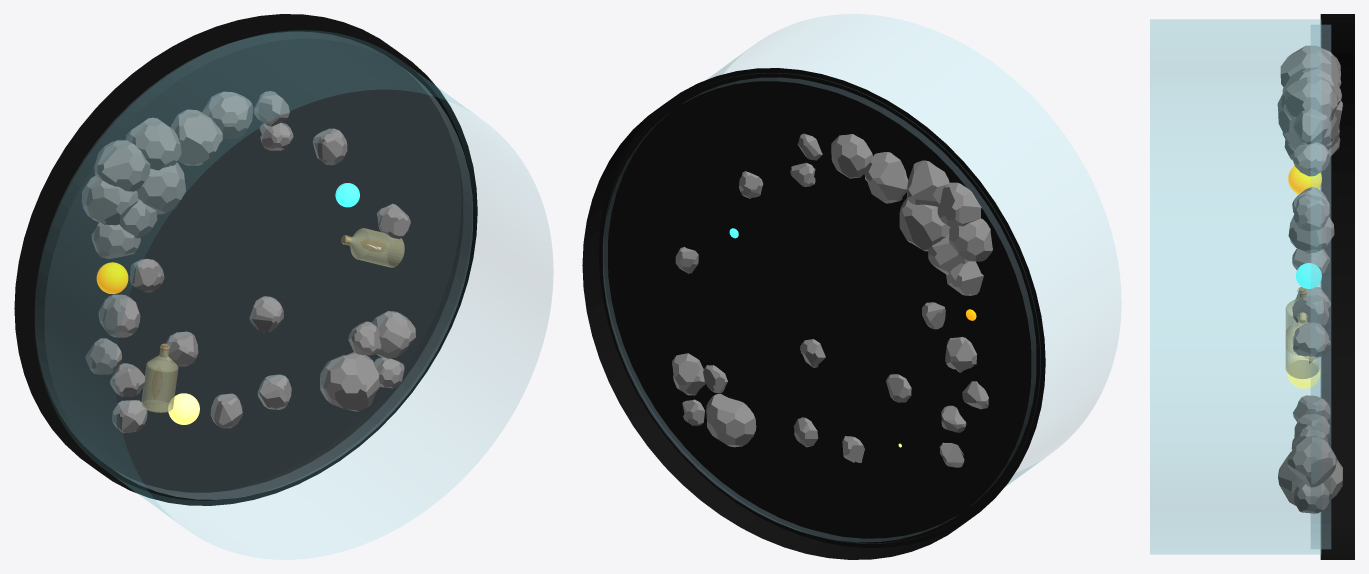
The model's file is tank_circular.glb.
The picture shows the model from 3 angles, left to right: view 1: azimuth 30°, elevation 25°; view 2: azimuth 150°, elevation 25°; view 3: azimuth 270°, elevation 25°; orthographic projection. The views are drawn at different scales.
Visible parts, largest first — view 1: base, water, glass, Icosphere.024, Icosphere, Icosphere.005, Icosphere.002, Icosphere.001, bottle.001, Icosphere.004, Icosphere.006, bottle (+20 smaller); view 2: base, glass, water, Icosphere.024, Icosphere.004, Icosphere.005, Icosphere, Icosphere.002, Icosphere.001, Icosphere.006, Icosphere.023, Icosphere.007 (+2 smaller); view 3: glass, base, water, Icosphere.023, Icosphere.006, Icosphere.002, bottle, Icosphere.016, Icosphere.008, Icosphere.017, Icosphere.024, Icosphere.015 (+14 smaller).
Part boxes in pixels (box(x1,y1,x2,y2)): base: box(14, 14, 477, 505); water: box(35, 32, 472, 499); glass: box(35, 31, 552, 559); Icosphere.024: box(320, 352, 379, 411); Icosphere: box(94, 140, 150, 191); Icosphere.005: box(170, 109, 222, 165); Icosphere.002: box(125, 117, 181, 170); Icosphere.001: box(81, 176, 138, 225); bottle.001: box(141, 345, 178, 412); Icosphere.004: box(136, 162, 185, 214); Icosphere.006: box(202, 91, 253, 139); bottle: box(341, 228, 404, 267); base: box(582, 68, 1045, 559); glass: box(707, 14, 1120, 486); water: box(603, 77, 1035, 541); Icosphere.024: box(706, 393, 756, 447); Icosphere.004: box(899, 198, 950, 251); Icosphere.005: box(864, 152, 908, 203); Icosphere: box(937, 182, 981, 227); Icosphere.002: box(907, 160, 949, 206); Icosphere.001: box(949, 218, 992, 261); Icosphere.006: box(831, 134, 872, 178); Icosphere.023: box(672, 353, 705, 395); Icosphere.007: box(946, 261, 983, 295); glass: box(1150, 19, 1321, 554); base: box(1320, 14, 1354, 559); water: box(1311, 25, 1330, 548); Icosphere.023: box(1287, 436, 1336, 487); Icosphere.006: box(1284, 76, 1337, 122); Icosphere.002: box(1280, 45, 1341, 87); bottle: box(1285, 312, 1319, 378); Icosphere.016: box(1293, 194, 1329, 231); Icosphere.008: box(1288, 215, 1334, 253); Icosphere.017: box(1293, 322, 1328, 356); Icosphere.024: box(1278, 452, 1342, 505); Icosphere.015: box(1293, 142, 1329, 176).
Size of the model in its own units: 50.08 by 50.08 by 18.76.
